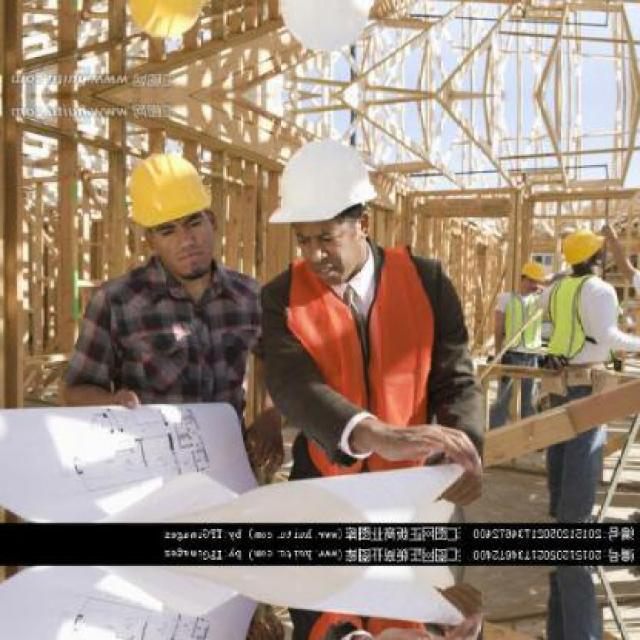Reflective-Jacket: (271, 244, 454, 478), (540, 273, 631, 373), (489, 288, 551, 364)
Safety-Helmet: (258, 130, 391, 238), (105, 144, 229, 242), (552, 222, 612, 275), (511, 252, 555, 294), (334, 626, 380, 640)
